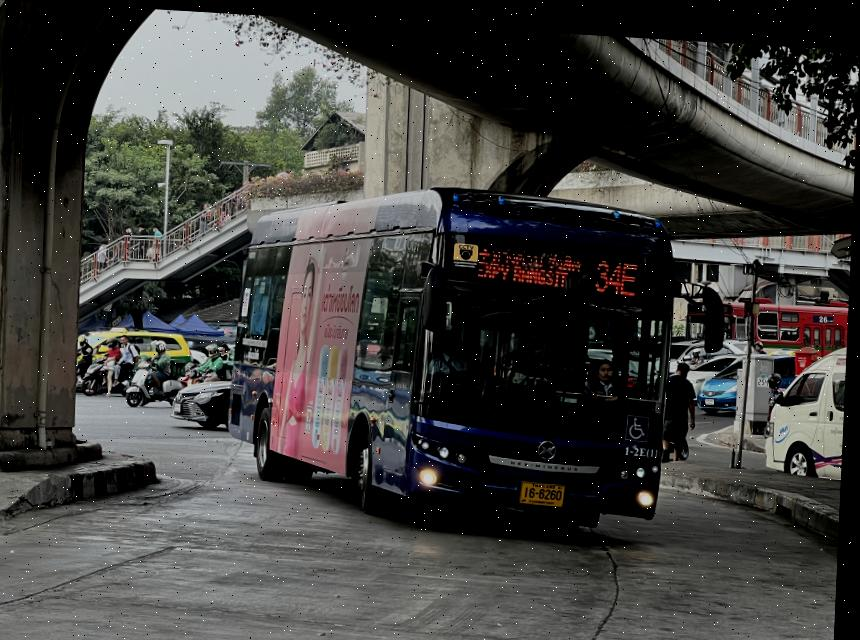Bus Line Number: (591, 241, 651, 297)
Bus Side Number: (620, 433, 665, 451)
Destination Sign: (474, 228, 589, 287)
TSB-Bus: (233, 183, 686, 526)
